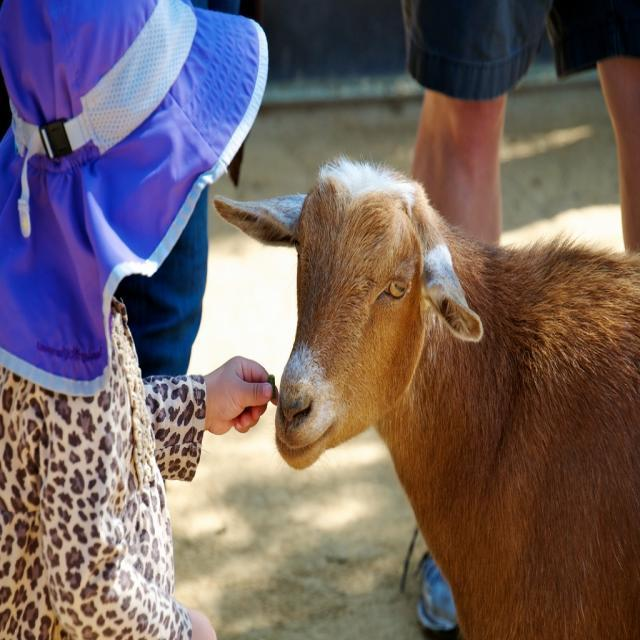Goat: (214, 153, 640, 638)
